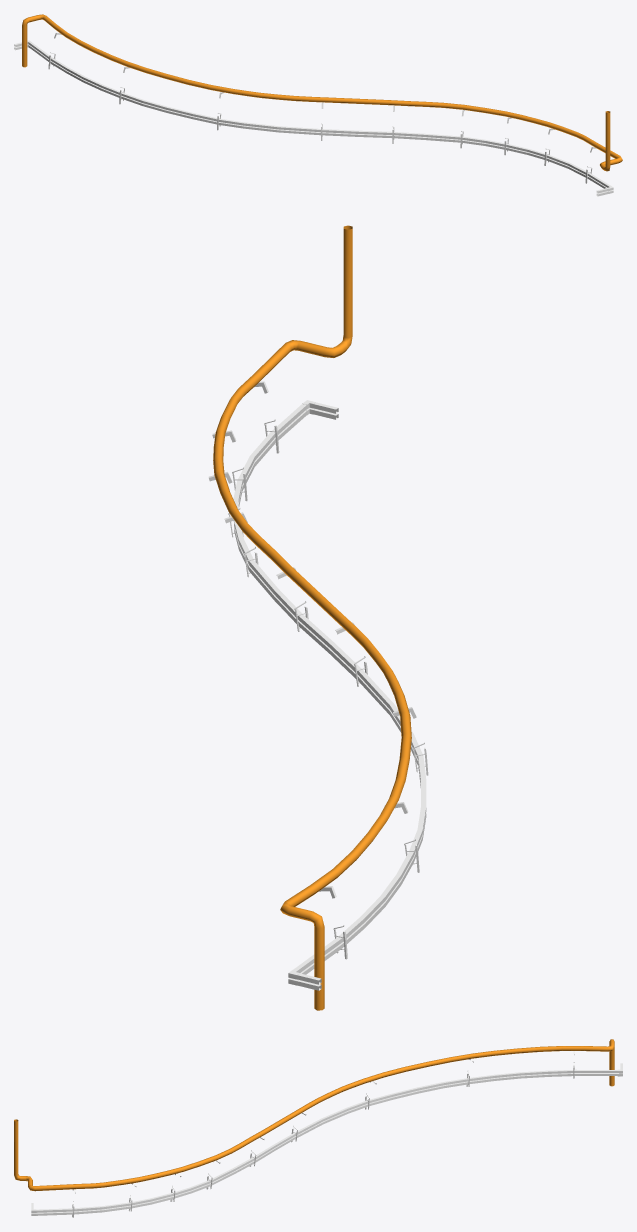
File: SM_H_Building_Tide_Waterway_02d_ATLAS.fbx
3 renders of one model, top to bottom at view 1: azimuth 30°, elevation 25°; view 2: azimuth 150°, elevation 25°; view 3: azimuth 270°, elevation 25°, orthographic. The views are drawn at different scales.
Visible parts, largest first — view 1: SM_H_Building_Tide_Waterway_02d_ATLAS; view 2: SM_H_Building_Tide_Waterway_02d_ATLAS; view 3: SM_H_Building_Tide_Waterway_02d_ATLAS.
Part boxes in pixels (bbox=[...]): SM_H_Building_Tide_Waterway_02d_ATLAS: bbox=[14, 14, 622, 196]; SM_H_Building_Tide_Waterway_02d_ATLAS: bbox=[208, 225, 428, 1010]; SM_H_Building_Tide_Waterway_02d_ATLAS: bbox=[14, 1039, 622, 1217].
Size of the model in its own units: 1995 by 3375 by 631.
